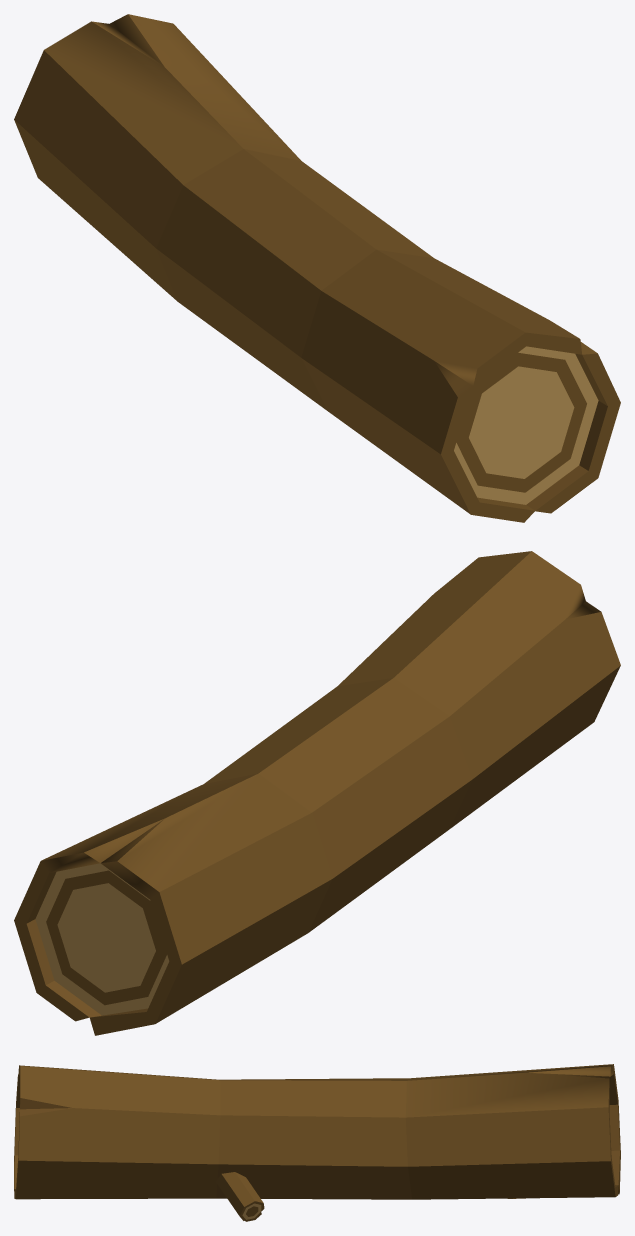
Rendered from fallen_log_small_2.fbx.
The picture shows the model from 3 angles, top to bottom: view 1: azimuth 30°, elevation 25°; view 2: azimuth 150°, elevation 25°; view 3: azimuth 270°, elevation 25°; orthographic projection. The views are drawn at different scales.
Parts seen in each view (by area): view 1: fallen_log_small_2; view 2: fallen_log_small_2; view 3: fallen_log_small_2.
Boxes of the visible parts, x1,y1,x2,y2 form: fallen_log_small_2: (14,14,620,522); fallen_log_small_2: (14,551,620,1035); fallen_log_small_2: (14,1064,620,1221).
Size of the model in its own units: 0.7009 by 0.5979 by 2.5.
